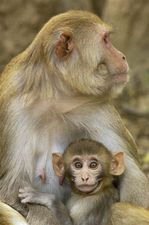monkey: (5, 4, 123, 173), (53, 150, 140, 211)
